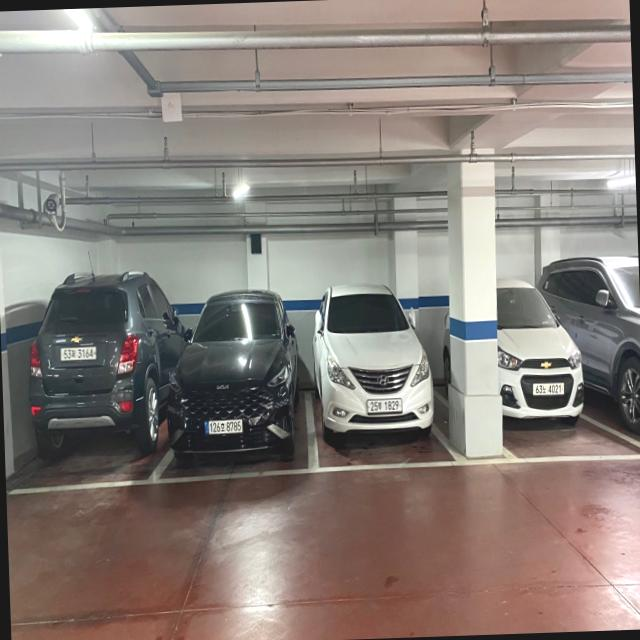car: (19, 271, 170, 454), (167, 288, 301, 456), (314, 279, 436, 433), (496, 280, 585, 429)
